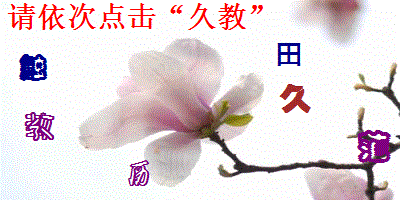text: (355, 129, 392, 165), (277, 82, 312, 114), (24, 110, 56, 143), (19, 52, 49, 83), (276, 41, 303, 68), (127, 160, 151, 188)
